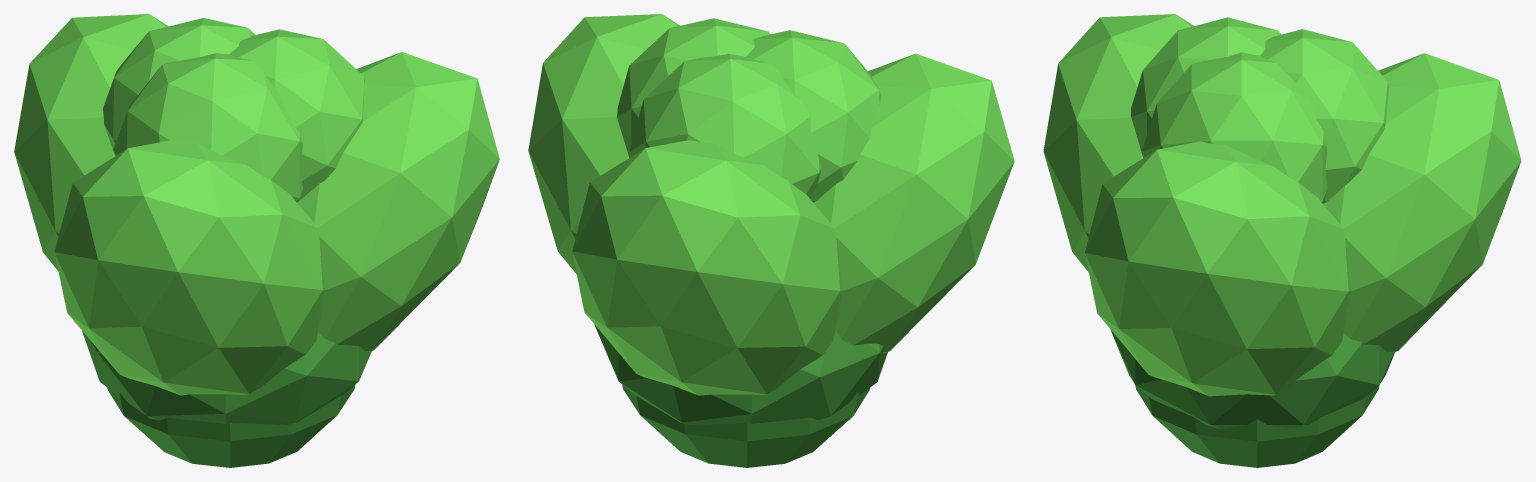
Rendered from SproutLeaves.obj.
3 renders of one model, left to right at view 1: azimuth 30°, elevation 25°; view 2: azimuth 150°, elevation 25°; view 3: azimuth 270°, elevation 25°, orthographic.
Visible parts, largest first — view 1: SproutLeaves_SproutLeaf, SproutLeaves_SproutHub; view 2: SproutLeaves_SproutLeaf, SproutLeaves_SproutHub; view 3: SproutLeaves_SproutLeaf, SproutLeaves_SproutHub.
Boxes of the visible parts, x1,y1,x2,y2 form: SproutLeaves_SproutLeaf: (14, 14, 499, 395); SproutLeaves_SproutHub: (82, 331, 371, 467); SproutLeaves_SproutLeaf: (528, 14, 1014, 395); SproutLeaves_SproutHub: (594, 324, 887, 467); SproutLeaves_SproutLeaf: (1043, 14, 1521, 396); SproutLeaves_SproutHub: (1110, 329, 1394, 467).
Size of the model in its own units: 3.19 by 2.8 by 3.08.
